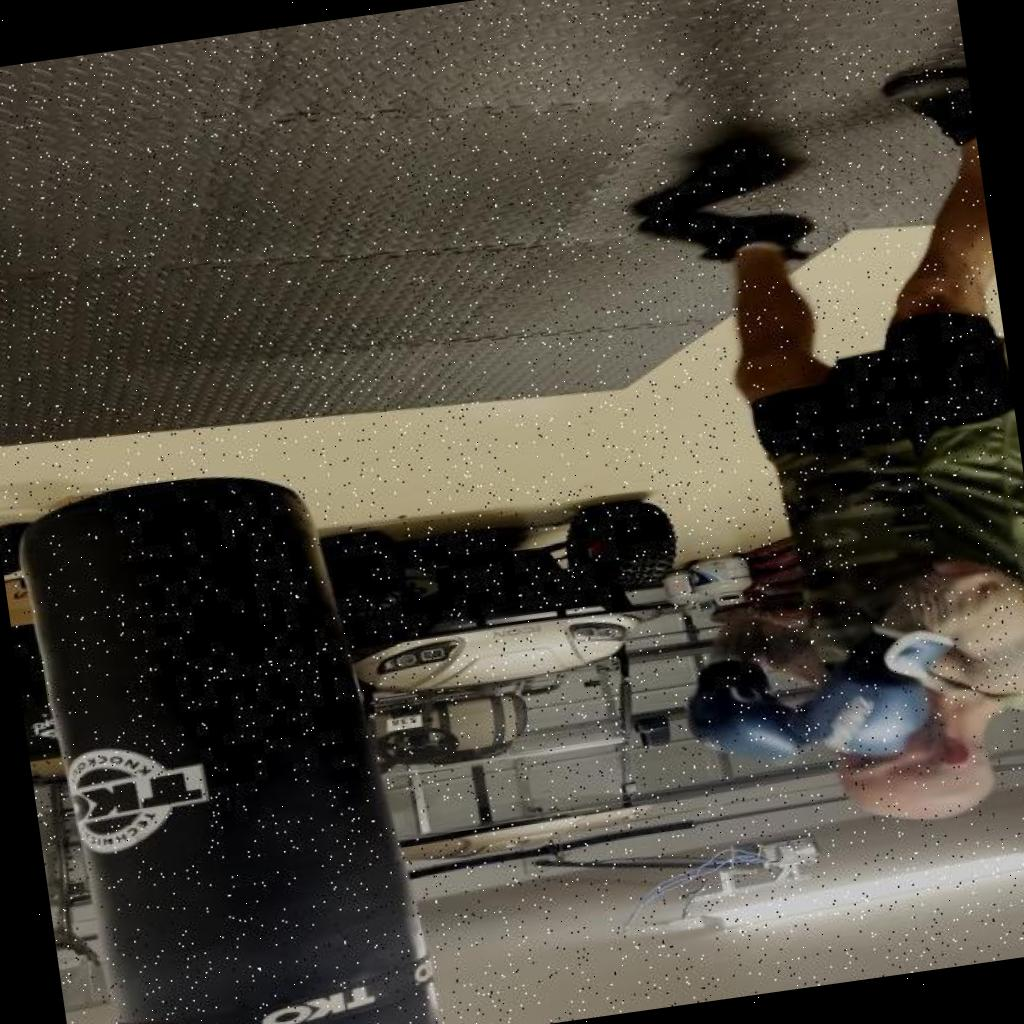no punch: (715, 565, 1024, 772)
